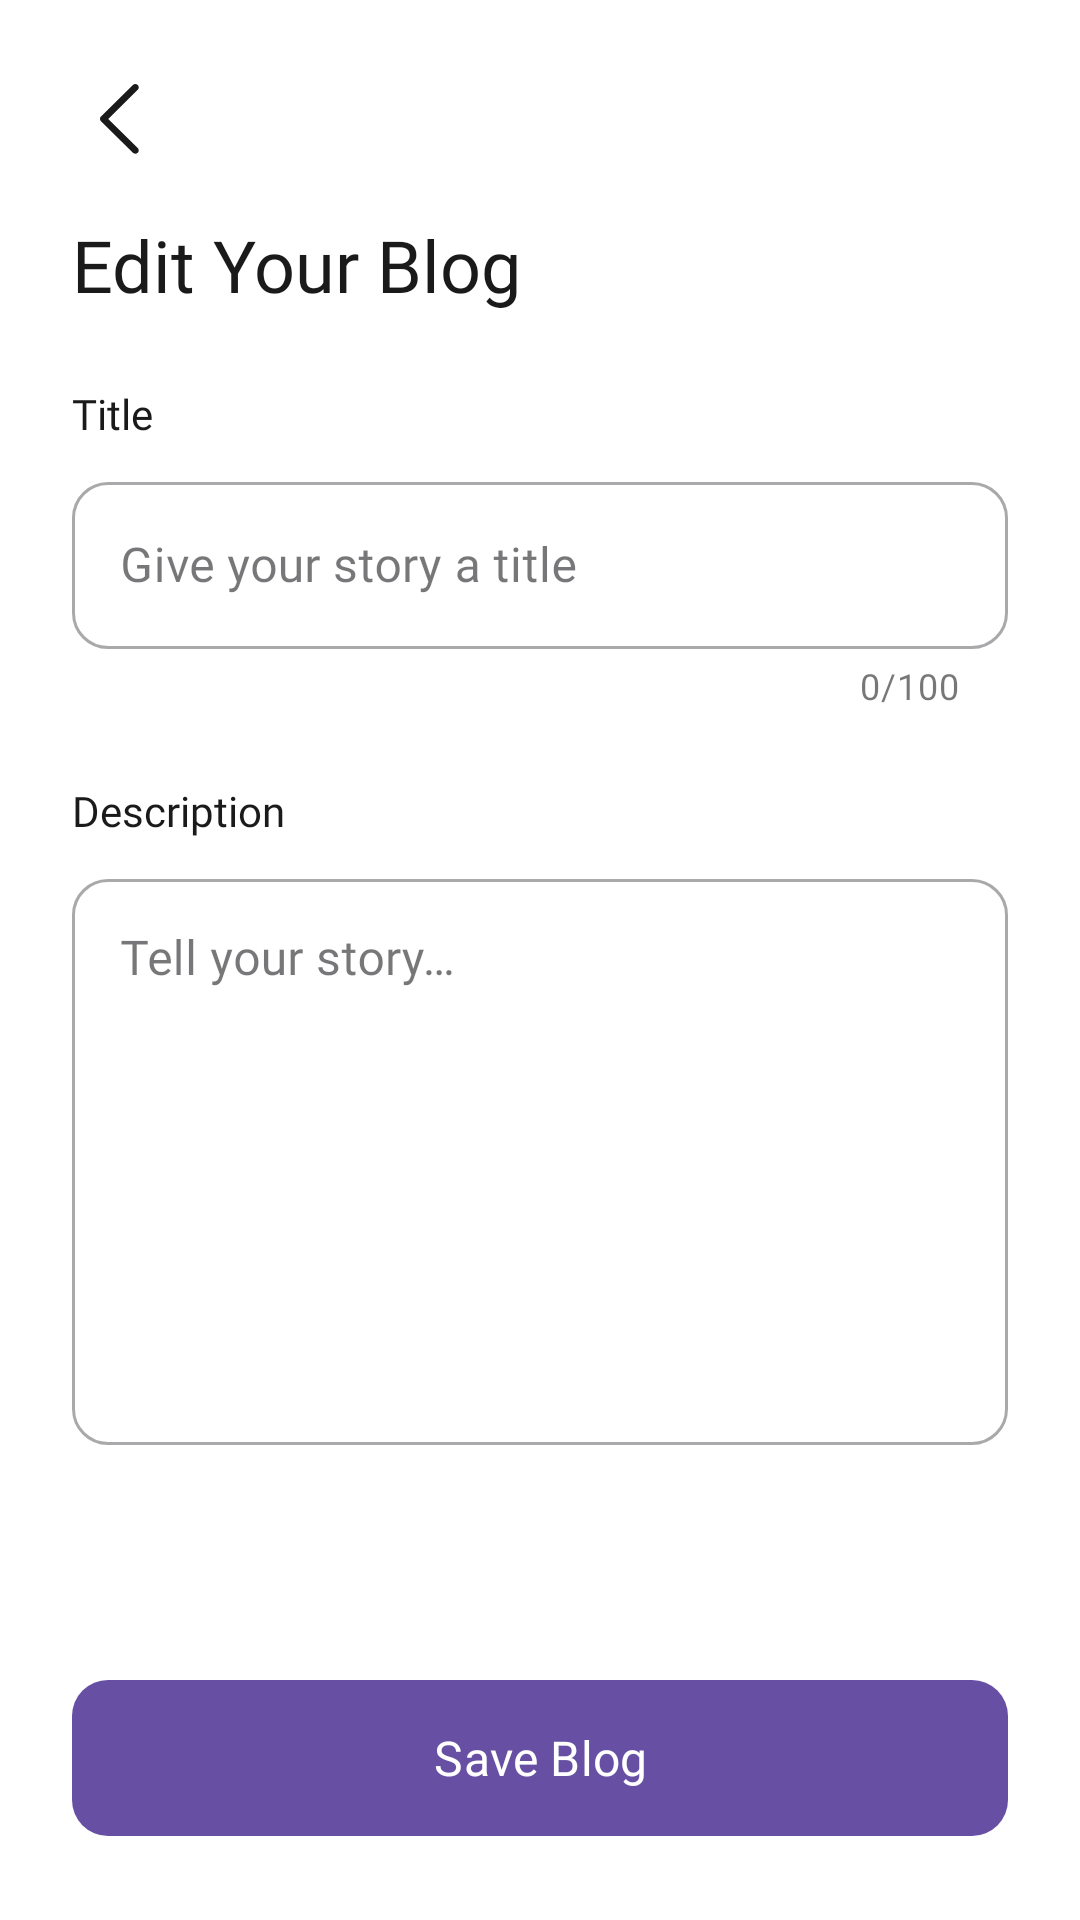

Where icons sit on this 1080w x 1920h app screen, as (x1, y1, x2, y2):
back: (100, 84, 139, 154)
